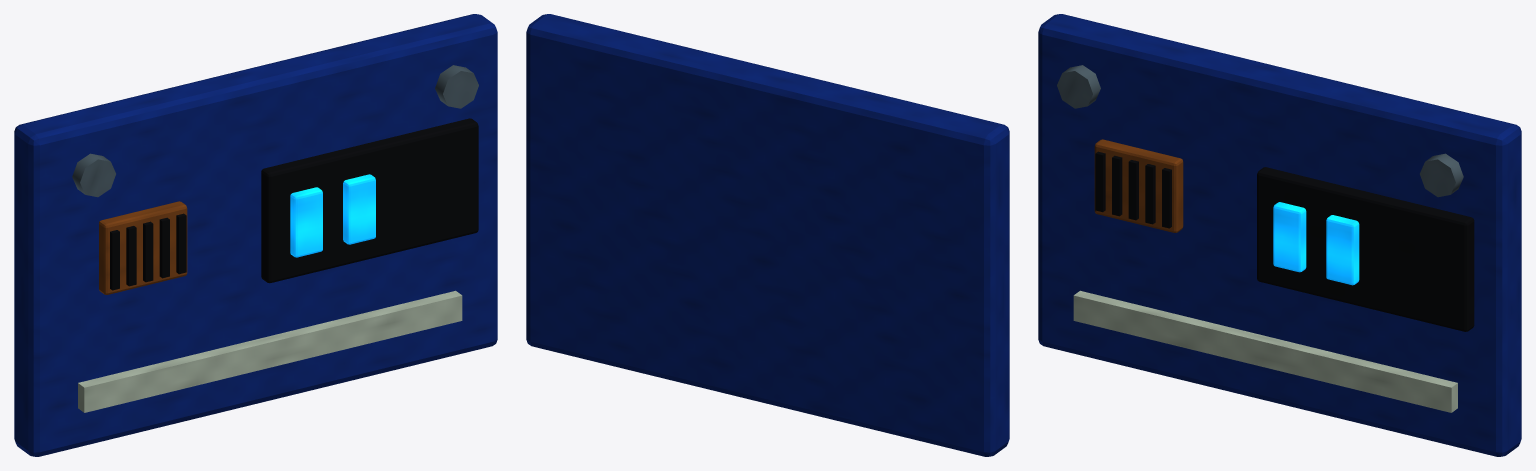
File: keycard_blue.glb
The picture shows the model from 3 angles, left to right: view 1: azimuth 30°, elevation 25°; view 2: azimuth 150°, elevation 25°; view 3: azimuth 330°, elevation 25°; orthographic projection.
Parts seen in each view (by area): view 1: keycard_blue; view 2: keycard_blue; view 3: keycard_blue.
Part boxes in pixels (left/top/right/bottom): keycard_blue: left=14, top=14, right=497, bottom=456; keycard_blue: left=526, top=14, right=1009, bottom=456; keycard_blue: left=1038, top=14, right=1521, bottom=456.
Size of the model in its own units: 0.31 by 0.204 by 0.0395.
6 materials, 6 textured.
